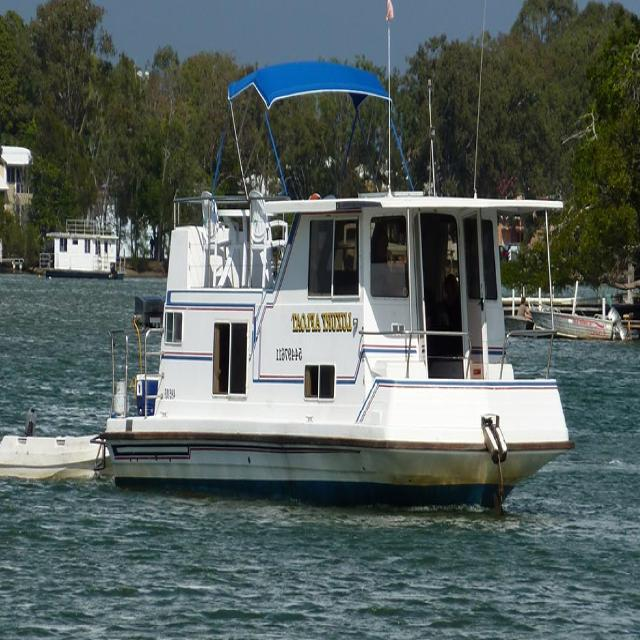houseboat: (112, 66, 570, 489)
